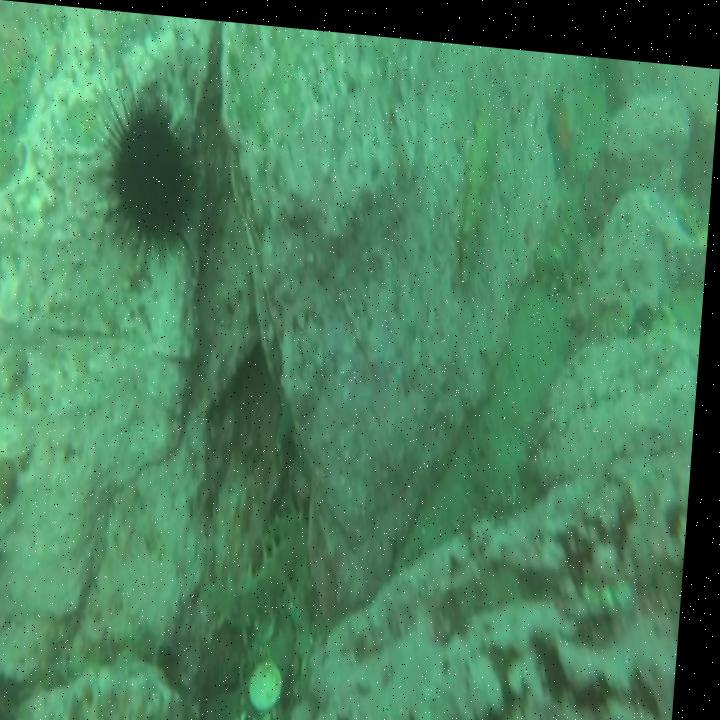echinus: (110, 100, 206, 243)
holothurian: (214, 502, 317, 627), (460, 87, 497, 274), (539, 182, 597, 284)
scallop: (258, 658, 294, 706)
starfish: (543, 75, 577, 159)
